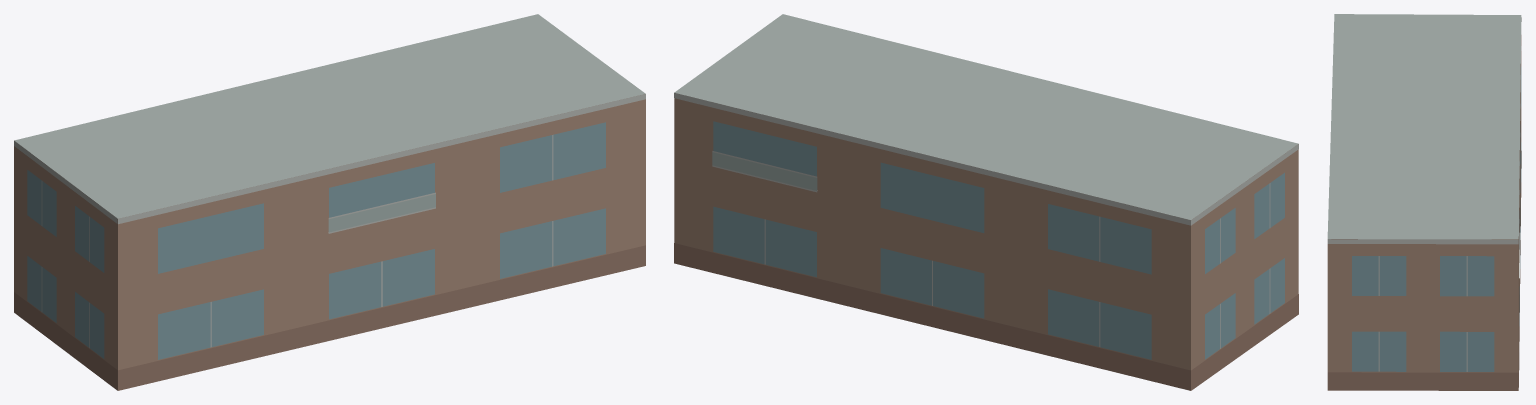
File: survey-upis-32924018.glb
3 views of the same model, side by side, from view 1: azimuth 30°, elevation 25°; view 2: azimuth 150°, elevation 25°; view 3: azimuth 270°, elevation 25° (orthographic). The views are drawn at different scales.
Parts seen in each view (by area): view 1: survey-upis-32924018.tmp; view 2: survey-upis-32924018.tmp; view 3: survey-upis-32924018.tmp.
Part boxes in pixels (left/top/right/bottom): survey-upis-32924018.tmp: left=14, top=14, right=645, bottom=390; survey-upis-32924018.tmp: left=674, top=14, right=1298, bottom=390; survey-upis-32924018.tmp: left=1327, top=14, right=1521, bottom=390.
Size of the model in its own units: 24.27 by 7.6 by 8.83.
